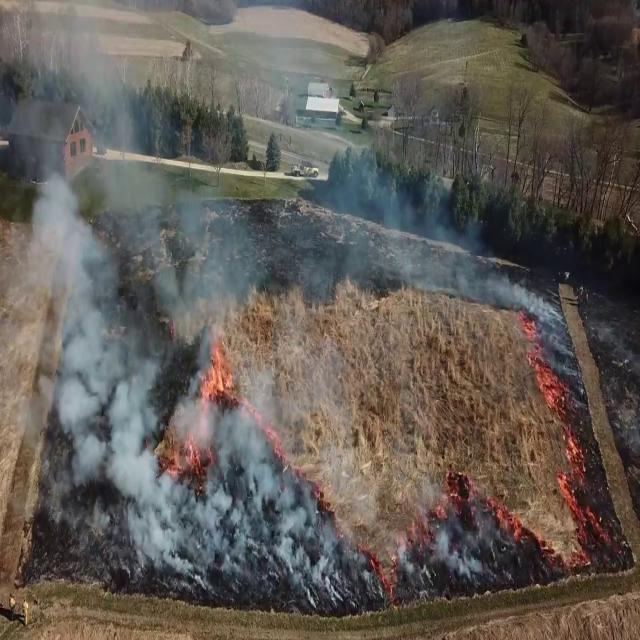Fire: (196, 330, 237, 420)
Smoke: (2, 10, 476, 592), (2, 6, 314, 588)
